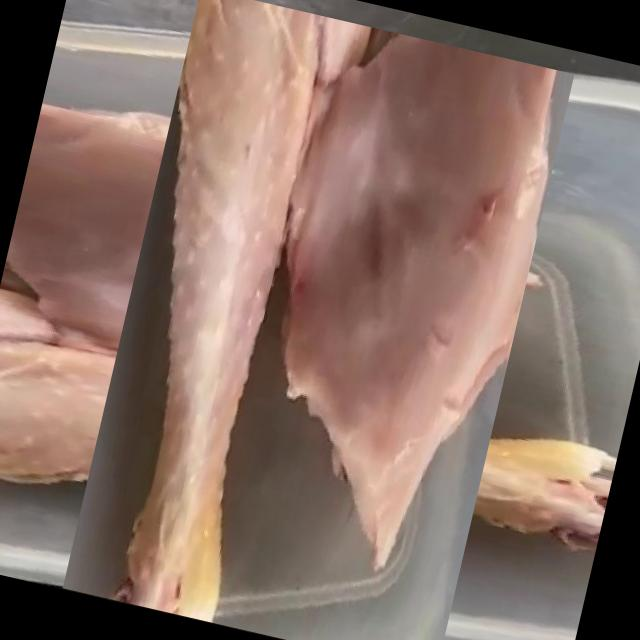chicken: (7, 36, 621, 640)
